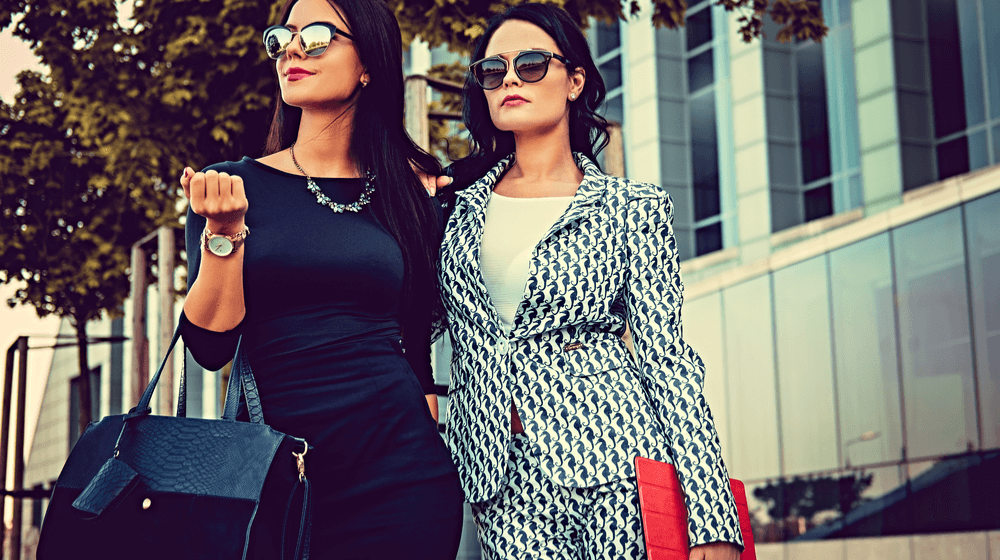F_W_suit jacket: (435, 152, 730, 497)
